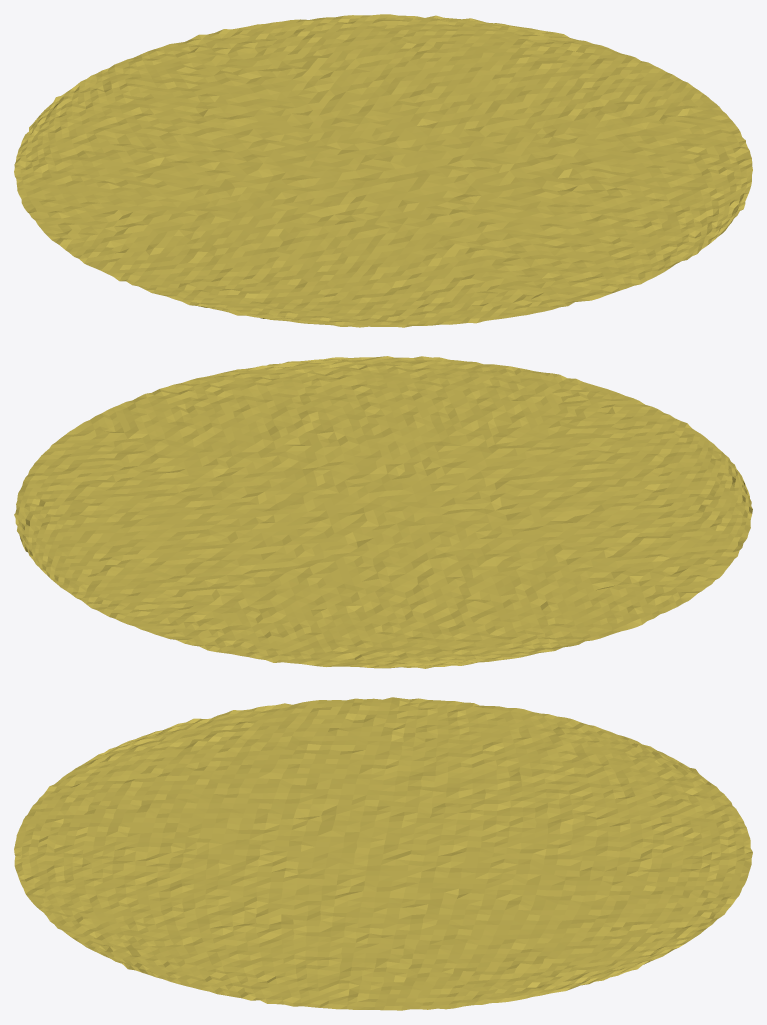
File: world_2_terrain.dae
3 views of the same model, one above another, from view 1: azimuth 30°, elevation 25°; view 2: azimuth 150°, elevation 25°; view 3: azimuth 270°, elevation 25° (orthographic).
Visible parts, largest first — view 1: Circle_001; view 2: Circle_001; view 3: Circle_001.
Boxes of the visible parts, x1,y1,x2,y2 form: Circle_001: (14,14,752,327); Circle_001: (14,356,752,668); Circle_001: (14,697,752,1010).
Bounding box in the file's own units: 128 × 128 × 0.7991.
